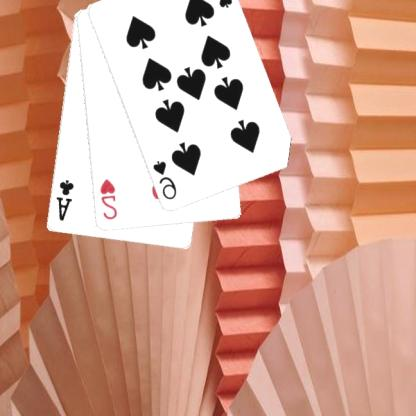2H: (98, 176, 120, 221)
9S: (152, 158, 180, 202), (208, 0, 236, 10)
AC: (55, 177, 77, 222)
